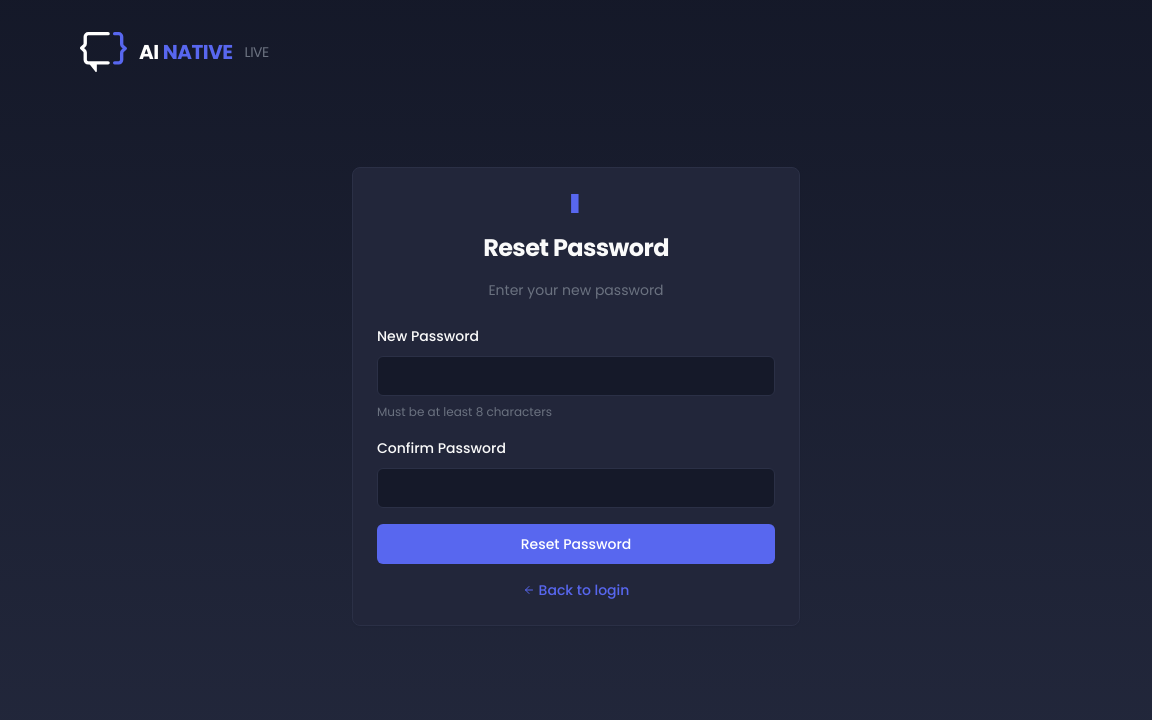
Test case: ResetPasswordPage › Form Validation › should display error when passwords do not match
In the password field labelled "New Password": point(576, 376) [377,356,775,396], type "NewPassword123!"
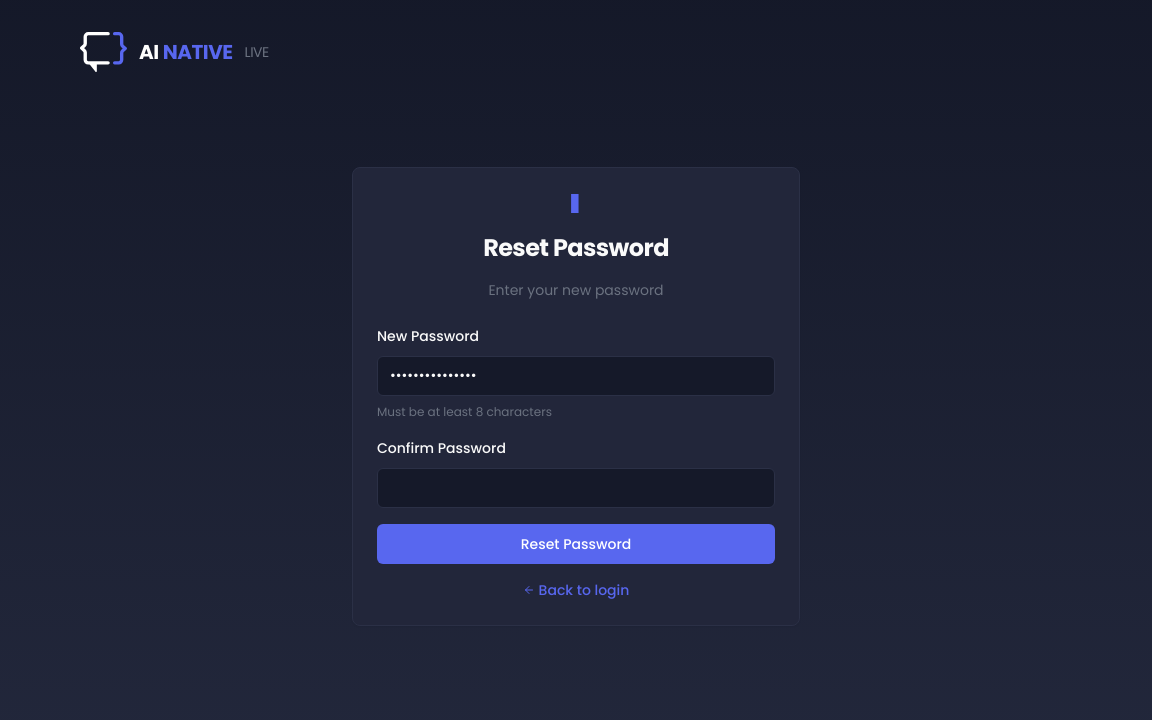
In the password field labelled "Confirm Password": point(576, 488) [377,468,775,508], type "DifferentPassword123!"
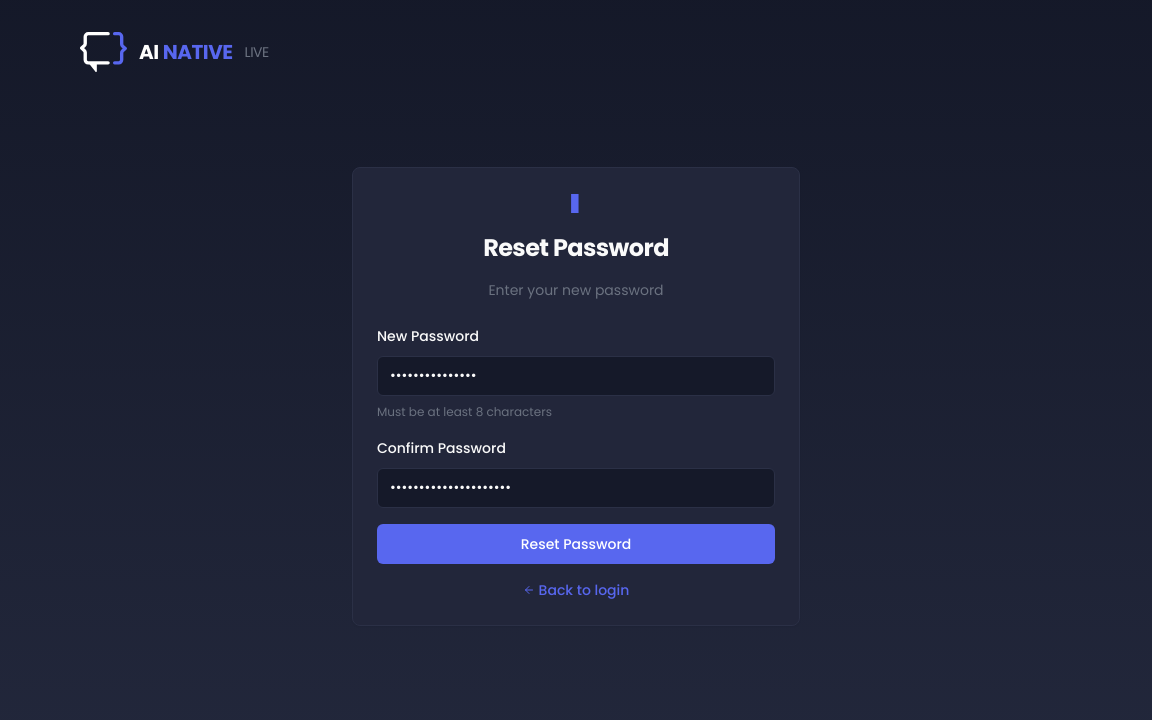
Click the button "Reset Password": point(576, 544) [377,524,775,564]
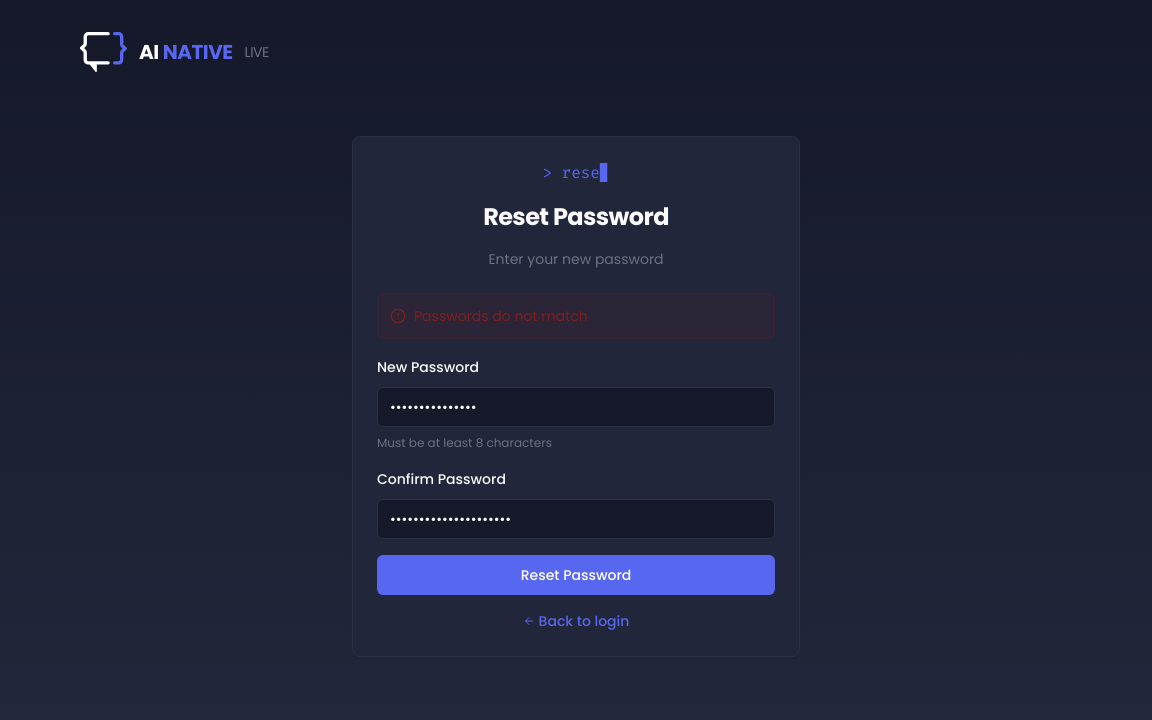
Check: the text "Passwords do not match" is shown, box [414,306,588,326]
